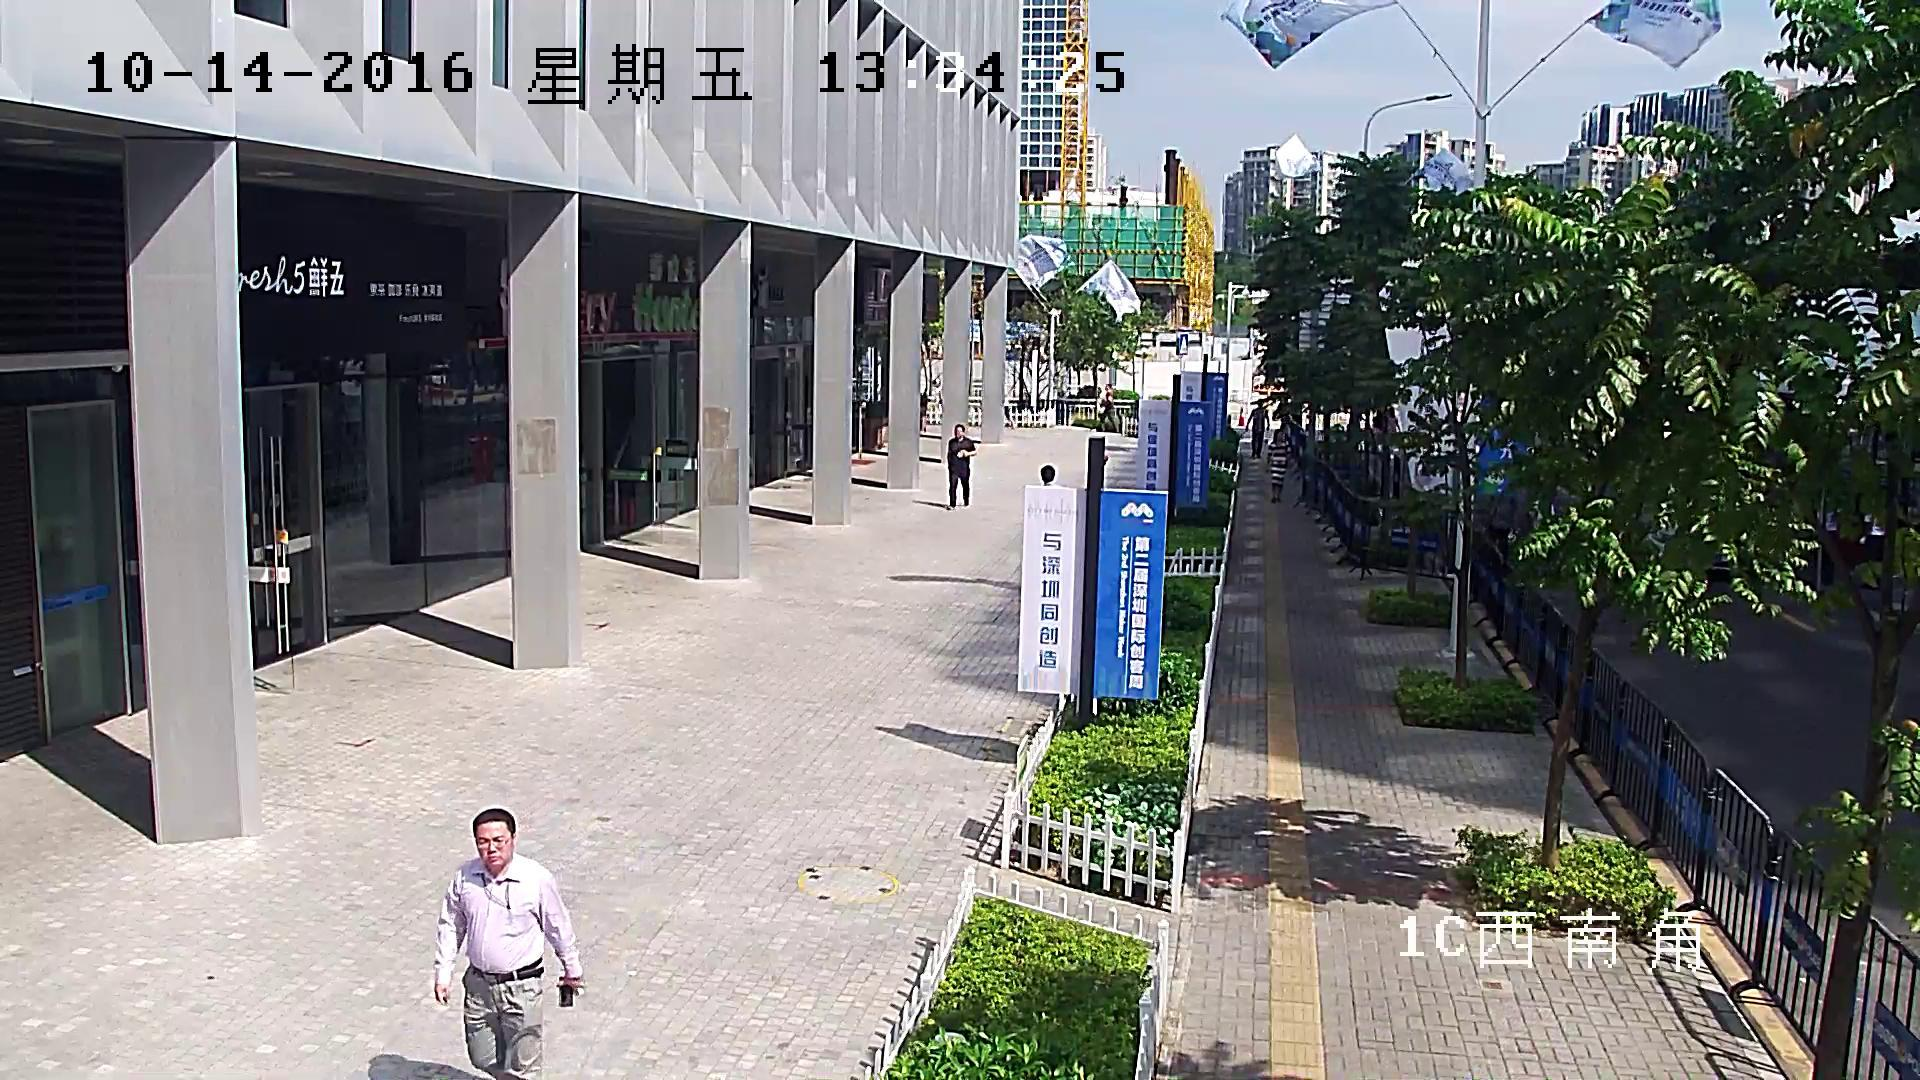person: (434, 808, 583, 1080), (946, 424, 975, 509), (1267, 429, 1291, 504), (1245, 399, 1269, 460), (1098, 383, 1119, 432), (1386, 406, 1400, 433)
